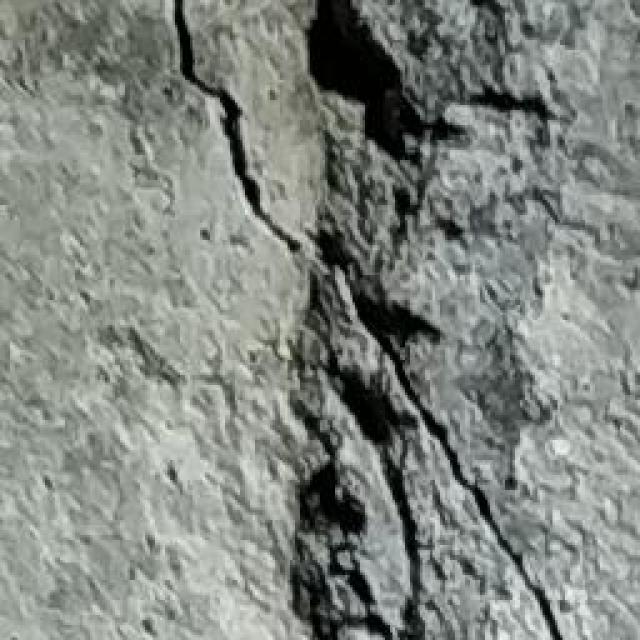Diagonal: (160, 0, 568, 640)
